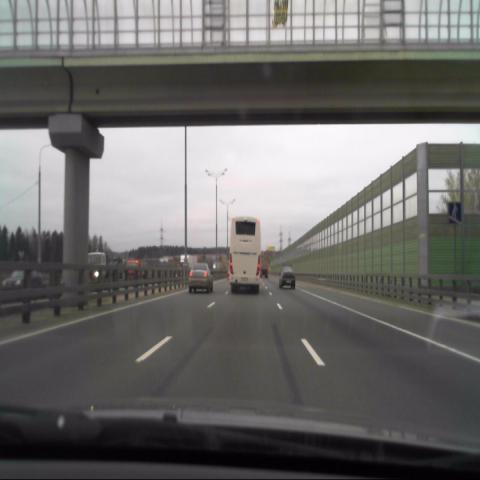6_7: (448, 203, 462, 223)
